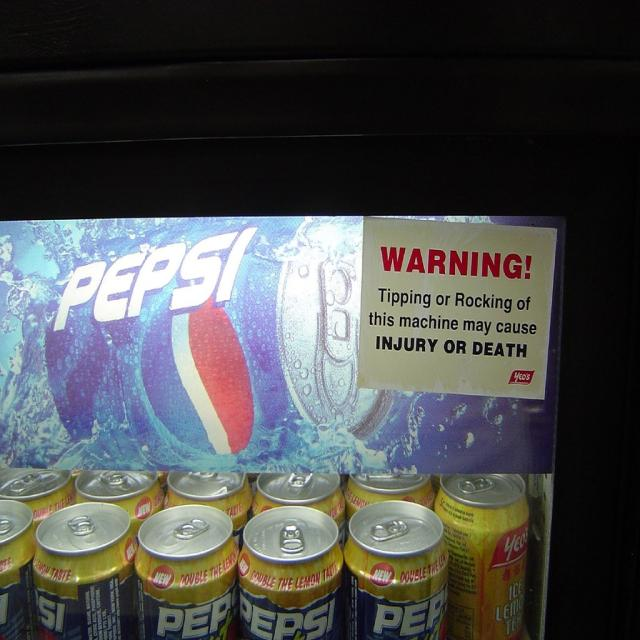pepsi: (137, 306, 261, 460)
